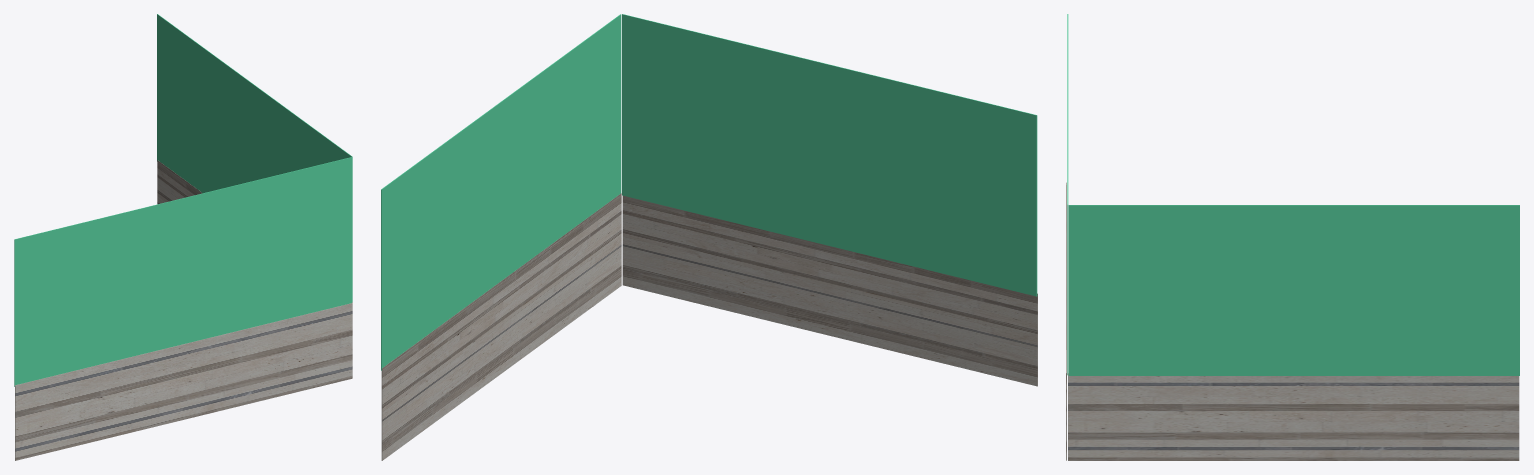
Rendered from pared.obj.
The picture shows the model from 3 angles, left to right: view 1: azimuth 30°, elevation 25°; view 2: azimuth 150°, elevation 25°; view 3: azimuth 270°, elevation 25°; orthographic projection. The views are drawn at different scales.
Visible parts, largest first — view 1: pCube1, pasted__pCube1group, pasted__pCube1group4, pasted__pasted__pCube1pasted__groupgroup3; view 2: pCube1, pasted__pCube1group4, pasted__pCube1group, pasted__pasted__pCube1pasted__groupgroup3; view 3: pasted__pCube1group4, pasted__pasted__pCube1pasted__groupgroup3, pCube1.
Part boxes in pixels (box(x1,y1,x2,y2)): pCube1: box(14, 157, 351, 386); pasted__pCube1group: box(15, 303, 352, 460); pasted__pCube1group4: box(157, 14, 352, 302); pasted__pasted__pCube1pasted__groupgroup3: box(157, 160, 352, 302); pCube1: box(622, 14, 1037, 296); pasted__pCube1group4: box(381, 14, 621, 370); pasted__pCube1group: box(622, 195, 1037, 386); pasted__pasted__pCube1pasted__groupgroup3: box(381, 193, 621, 460); pasted__pCube1group4: box(1068, 205, 1519, 375); pasted__pasted__pCube1pasted__groupgroup3: box(1068, 373, 1519, 460); pCube1: box(1067, 14, 1068, 375).
Bounding box in the file's own units: 4.09 × 2.55 × 4.1.
Materials: 2 (2 with a texture image).
